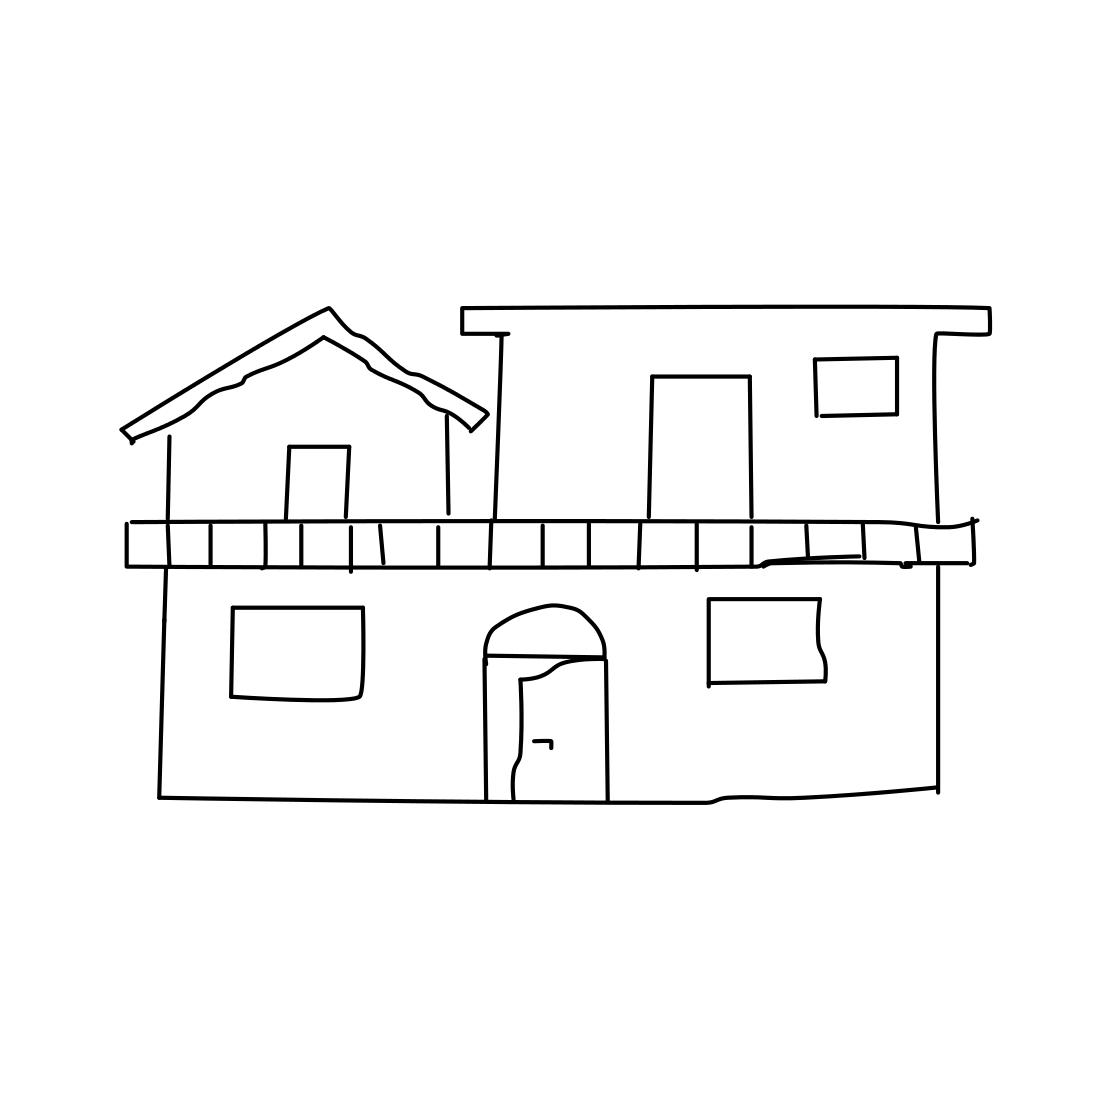House: (103, 236, 978, 862)
